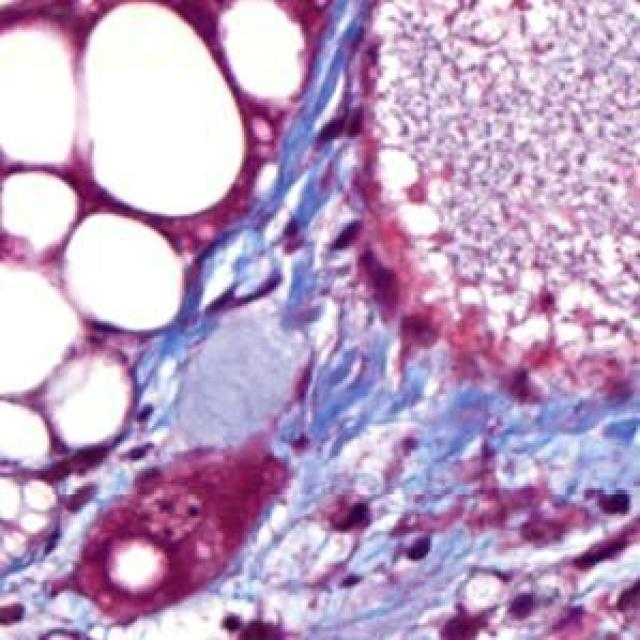steatosis: (69, 4, 244, 214), (54, 216, 188, 336)
